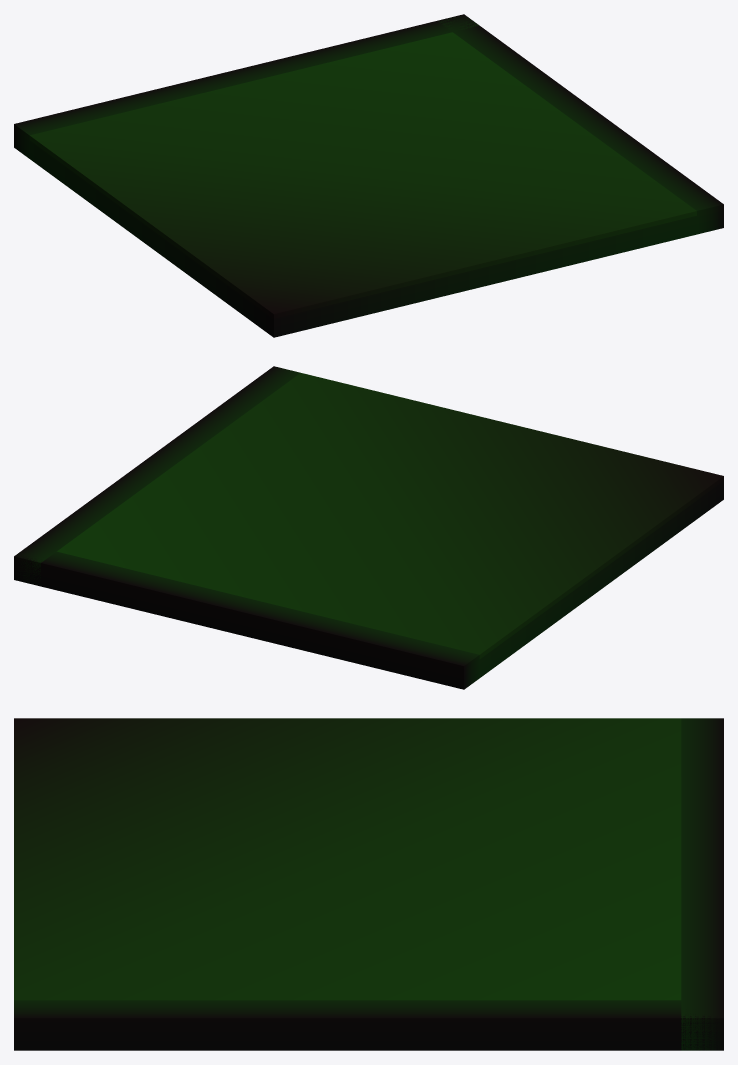
File: via_he_corner.far.glb
3 views of the same model, one above another, from view 1: azimuth 30°, elevation 25°; view 2: azimuth 150°, elevation 25°; view 3: azimuth 270°, elevation 25° (orthographic). The views are drawn at different scales.
Parts seen in each view (by area): view 1: via_he_corner; view 2: via_he_corner; view 3: via_he_corner.
Part boxes in pixels (x1=…): via_he_corner: x1=14, y1=14, x2=723, y2=337; via_he_corner: x1=14, y1=366, x2=723, y2=689; via_he_corner: x1=14, y1=718, x2=723, y2=1050.
Size of the model in its own units: 3 by 0.15 by 3.
